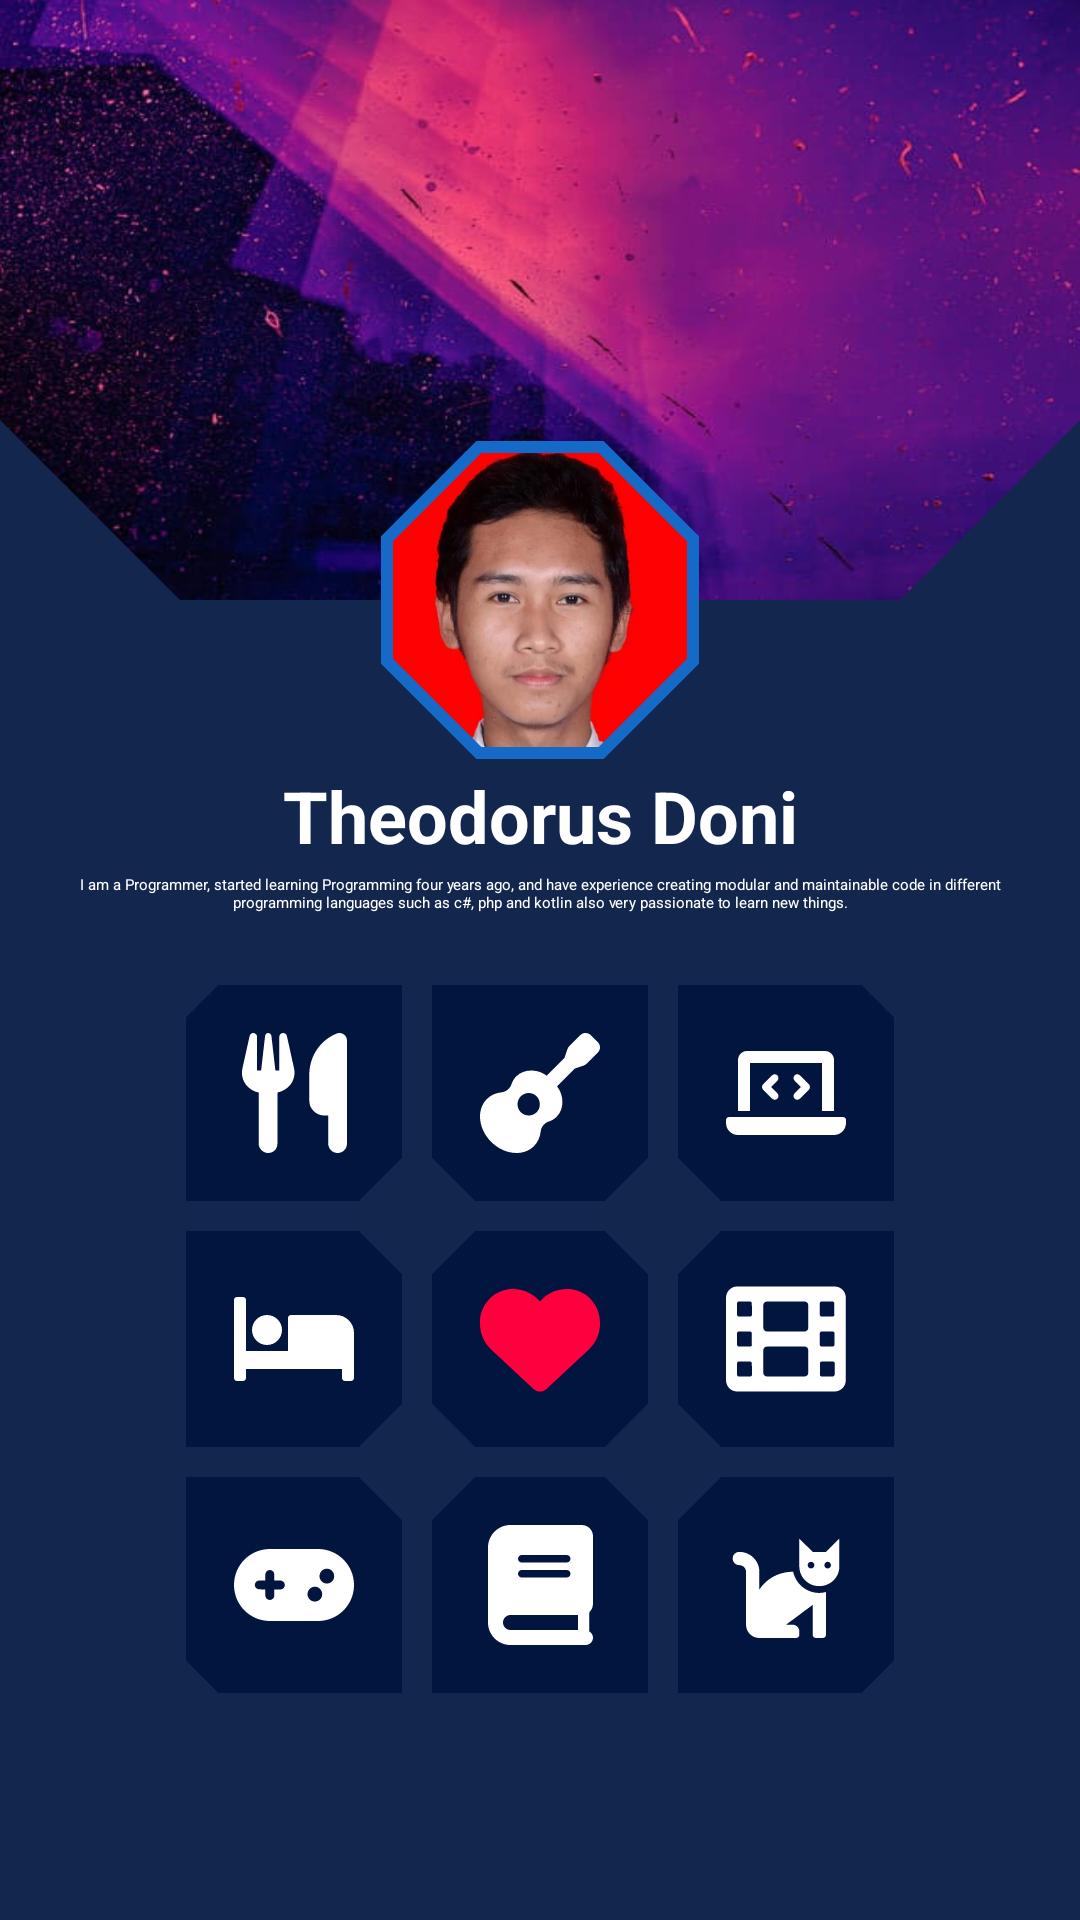

Icon click points for this 1080 x 1920 phone screenshot, format [x,y]:
bed: [294,1339]
book: [540,1585]
cat: [786,1588]
film: [786,1339]
gamepad: [294,1585]
guitar: [540,1093]
heart: [540,1340]
profile: [540,600]
utensils: [294,1093]
